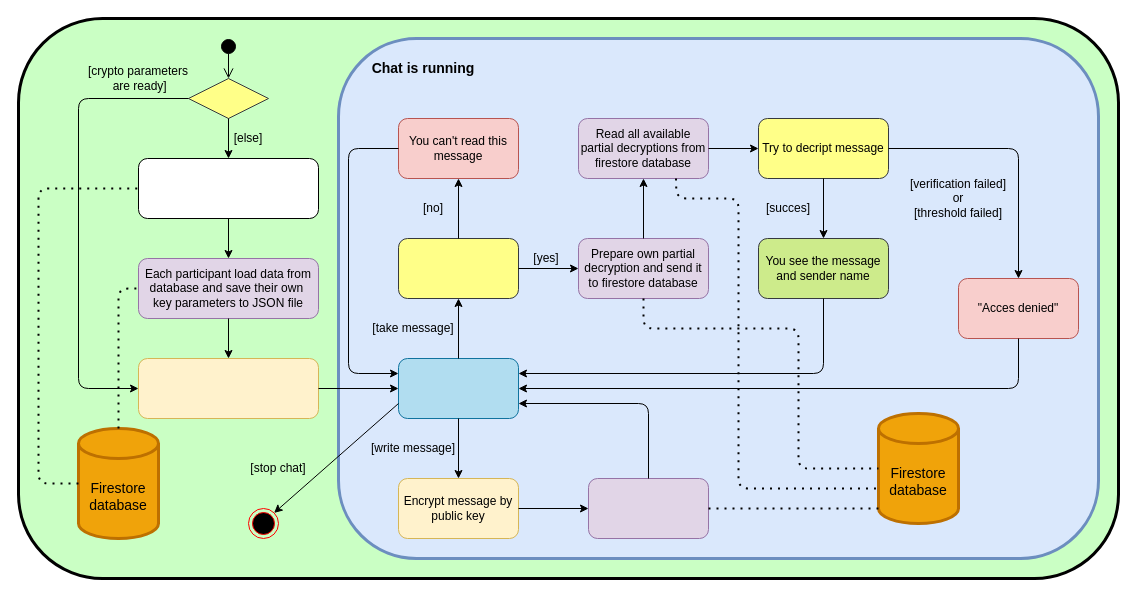
Image size: 1137x597. Some labels were removed from this diagram. The box of each missing label's shape, as (x1, y1, x2, y2) in pixels:
Chat wait: (398, 358, 518, 418)
Dealer generate crypto parameters and send it to firestore database: (138, 158, 318, 218)
Each participant run chat and initialize loaded key parameters from JSON file: (138, 358, 318, 418)
Read message?: (398, 238, 518, 298)
Send message to firestore database: (588, 478, 708, 538)
